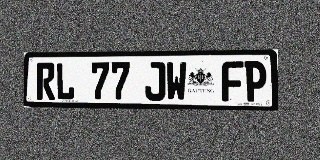7: (110, 62, 130, 101), (90, 62, 110, 100)
F: (222, 61, 243, 102)
J: (145, 62, 165, 101)
L: (56, 63, 75, 100)
P: (244, 61, 266, 102)
R: (36, 63, 55, 100)
W: (166, 62, 187, 101)
